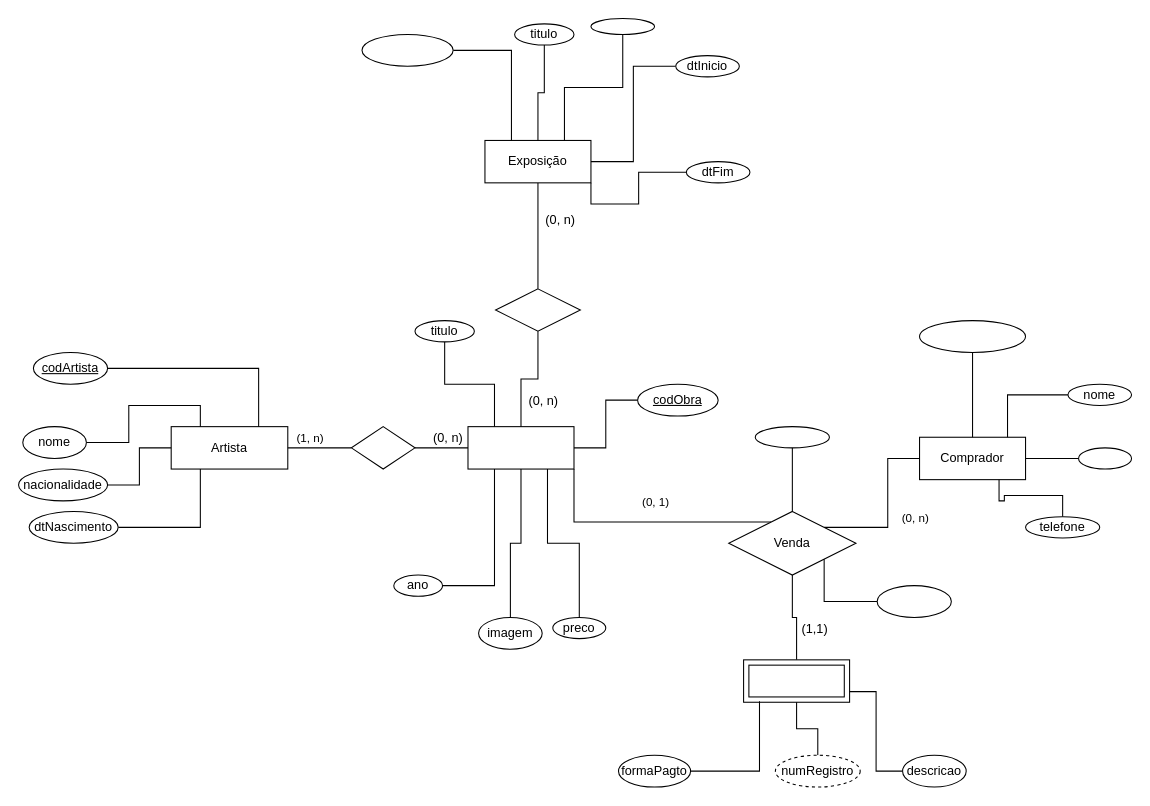
Image size: 1150x806. Some labels were removed from this diagram. Each missing label, with the box of its shape:
codComprador: (918, 320, 1026, 352)
codExposicao: (361, 33, 453, 66)
Cria: (350, 426, 415, 469)
dtVenda: (754, 426, 829, 448)
Obra: (467, 426, 574, 469)
pais: (1077, 447, 1132, 469)
Participa: (494, 288, 580, 331)
precoFinal: (876, 585, 951, 617)
Registro: (743, 659, 850, 702)
tema: (590, 17, 655, 34)
